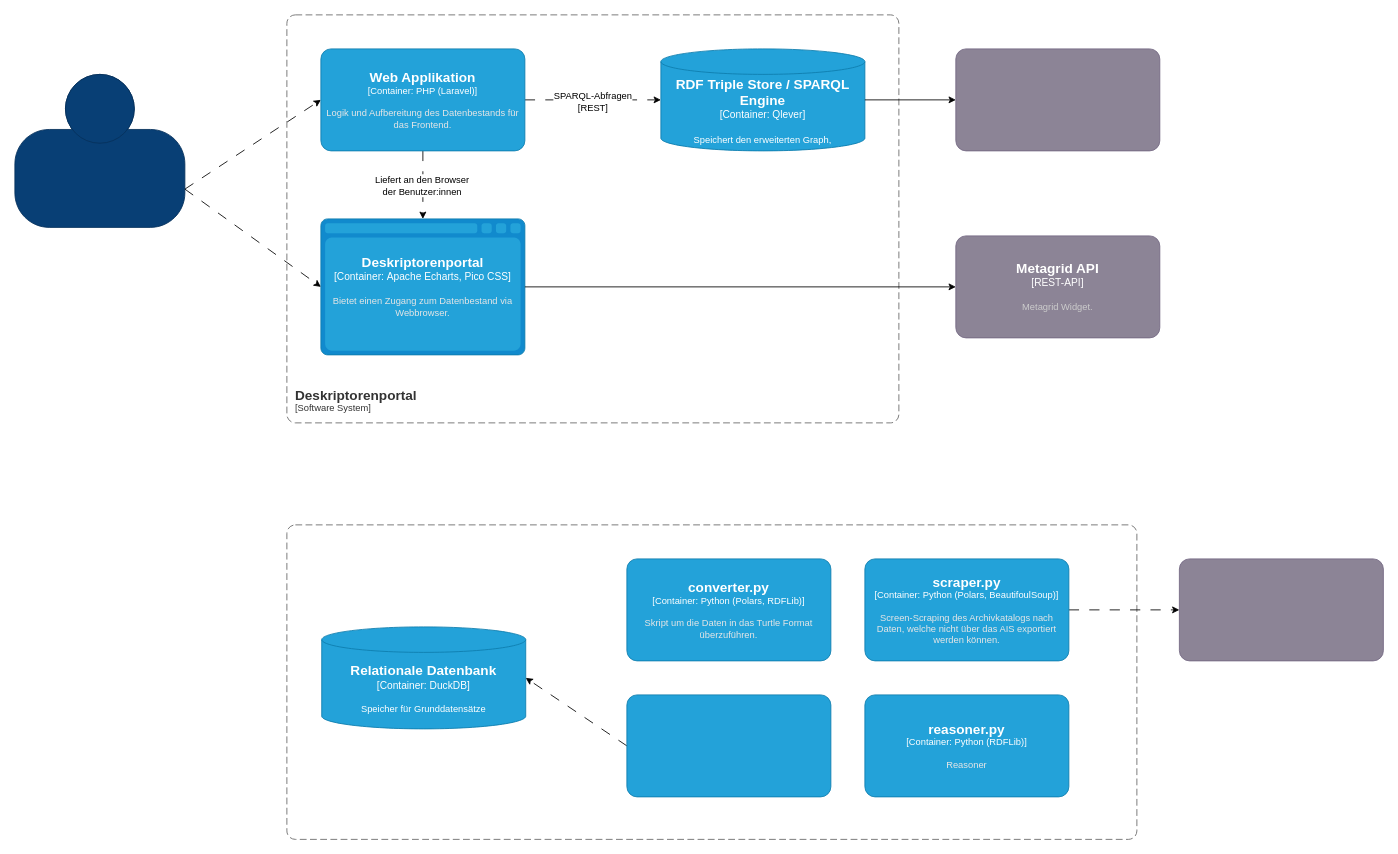
Image size: 1398x854. Some labels were removed from this diagram. Here are the shapes that lost their labels. From the top down, the box of each, then its label:
(955, 48, 1160, 151): Wikidata [SPARQL Endpoint] SPARQL Endpunkt von Wikidata
(14, 74, 185, 227): Benutzer:in [Person] Person welche eine Deskriptorenrecherche durchführt.
(1179, 558, 1383, 661): Archivkatalog BBB [Webseite] Online-Archivkatalog der Burgerbibliothek Bern.
(286, 524, 1137, 839): Data-Factory [Software System]
(626, 694, 831, 797): sling.py [Container: Sling] Datenformatmigration (CSV zu DuckDB).
